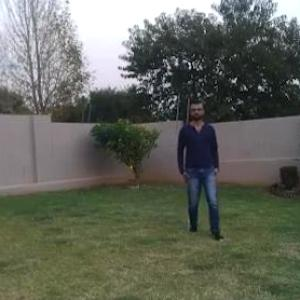follow: (181, 97, 219, 226)
